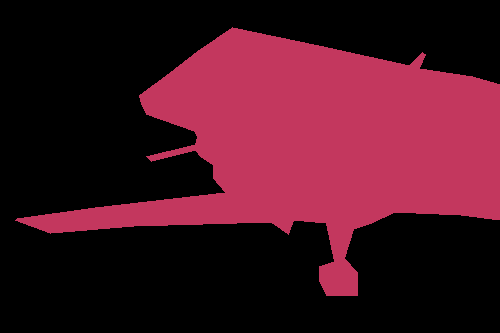Airplane: (15, 27, 500, 296)
